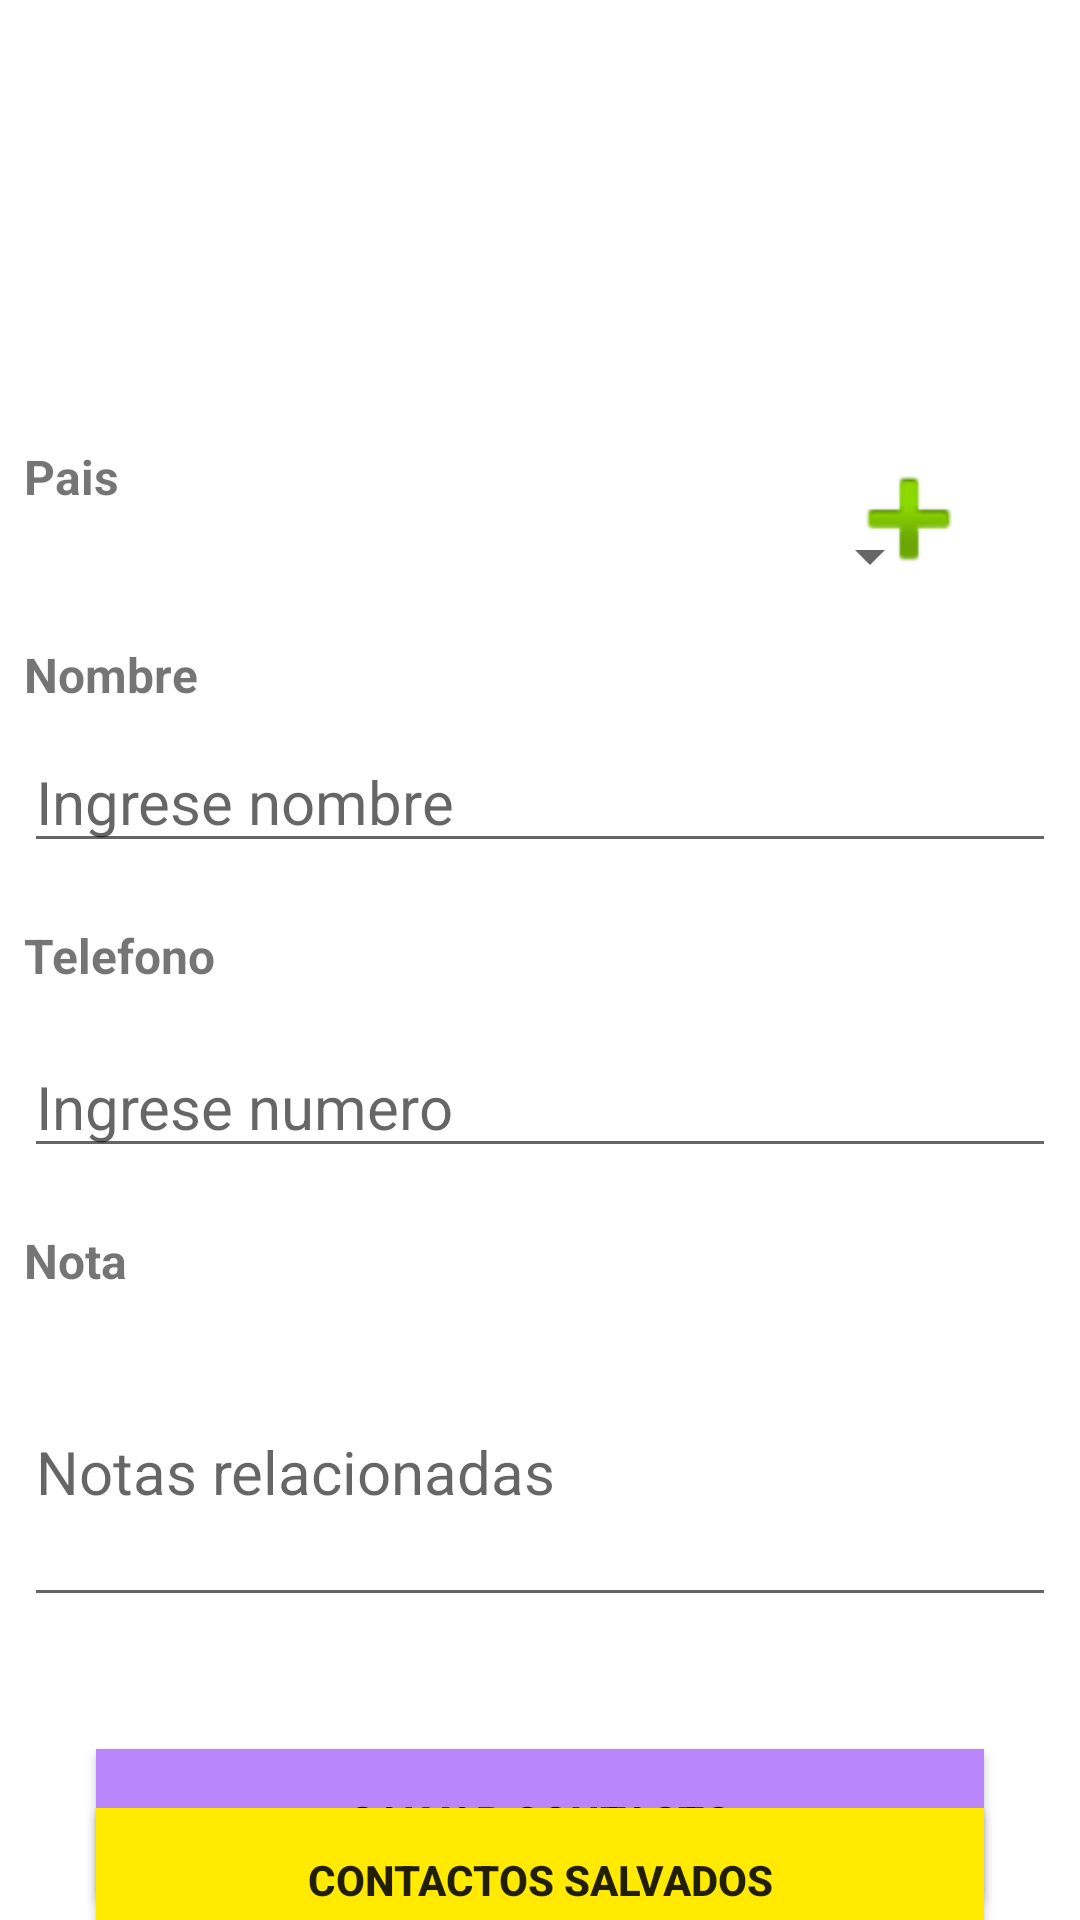

Icons on this 1080w x 1920h Android screen, each with the point to tap as [x,y]:
add: [903,520]
